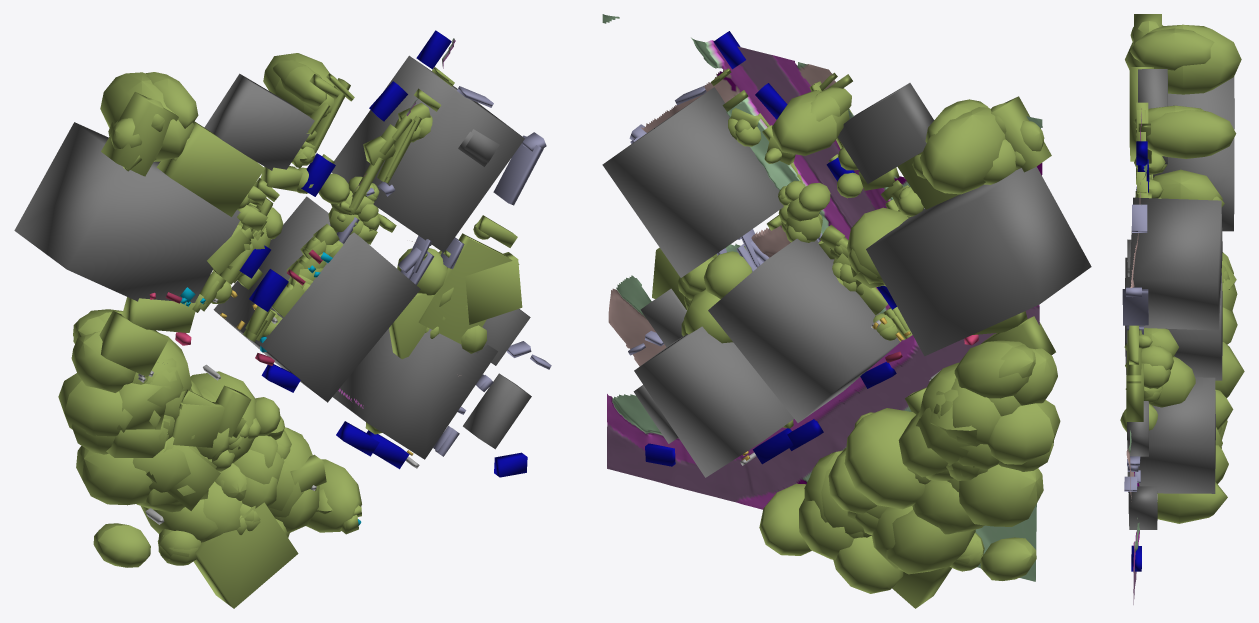
The picture shows the model from 3 angles, left to right: view 1: azimuth 30°, elevation 25°; view 2: azimuth 150°, elevation 25°; view 3: azimuth 270°, elevation 25°; orthographic projection. The views are drawn at different scales.
Bounding box in the file's own units: 71.35 × 72.26 × 17.79.
